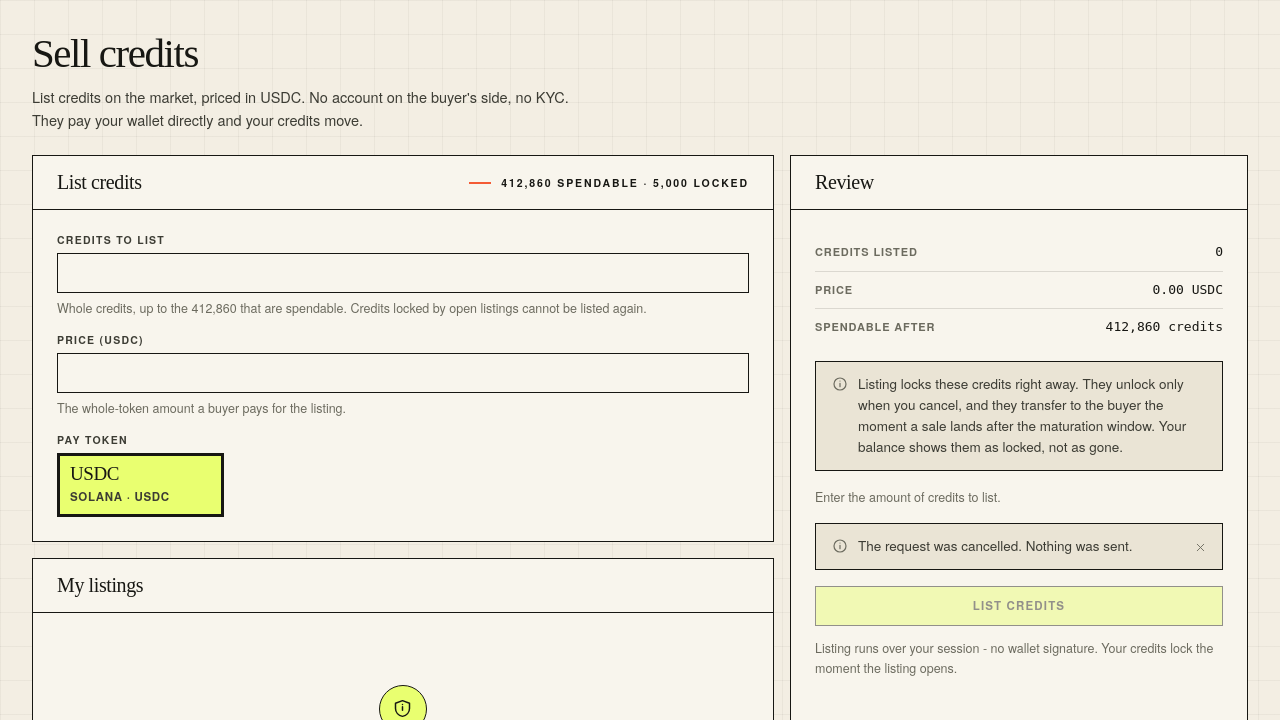
Test: SellComponent › a wallet rejection renders a dismissible notice, not a page error
The image size is (1280, 720).
Check: the element with class "notice-x" is shown, box 815,523 -> 1223,570
// The X clears the signal and the card leaves.
Click the button with class "state-close": (1200, 546) 1186,532 -> 1214,560
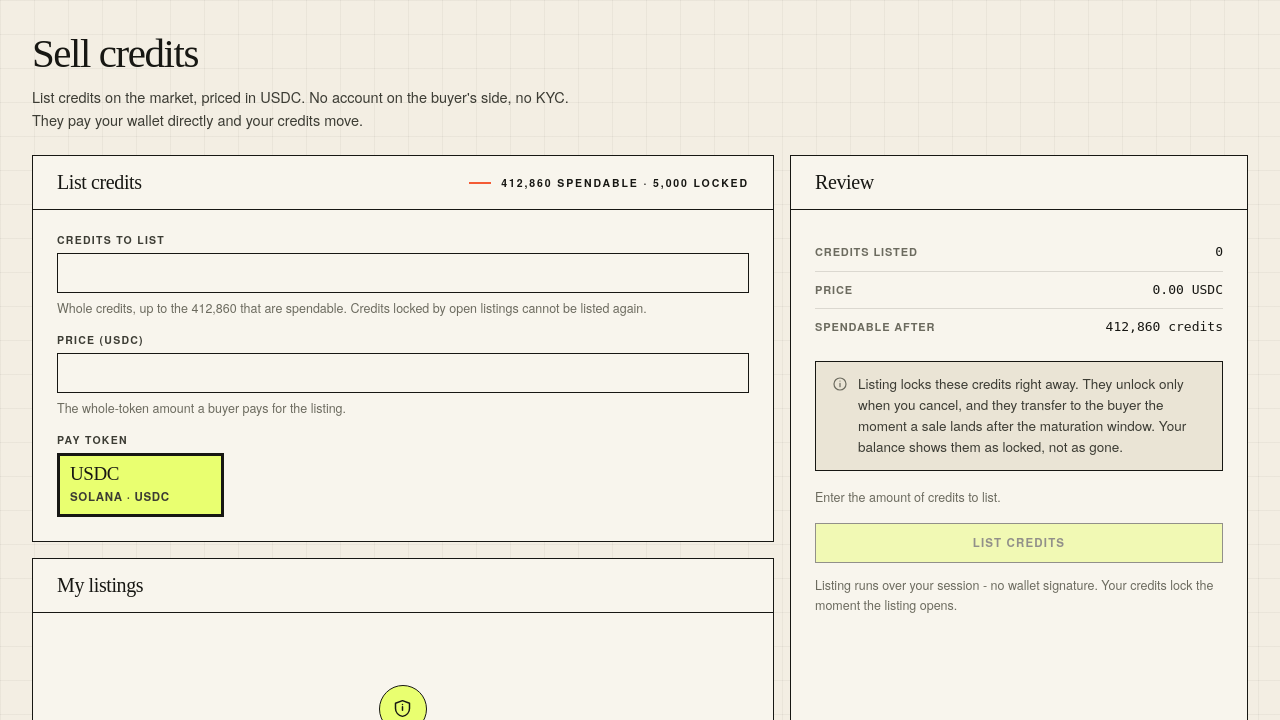
Check: the element with class "notice-x" is gone
Check: the text "The request was cancelled. Nothing was sent." is gone
